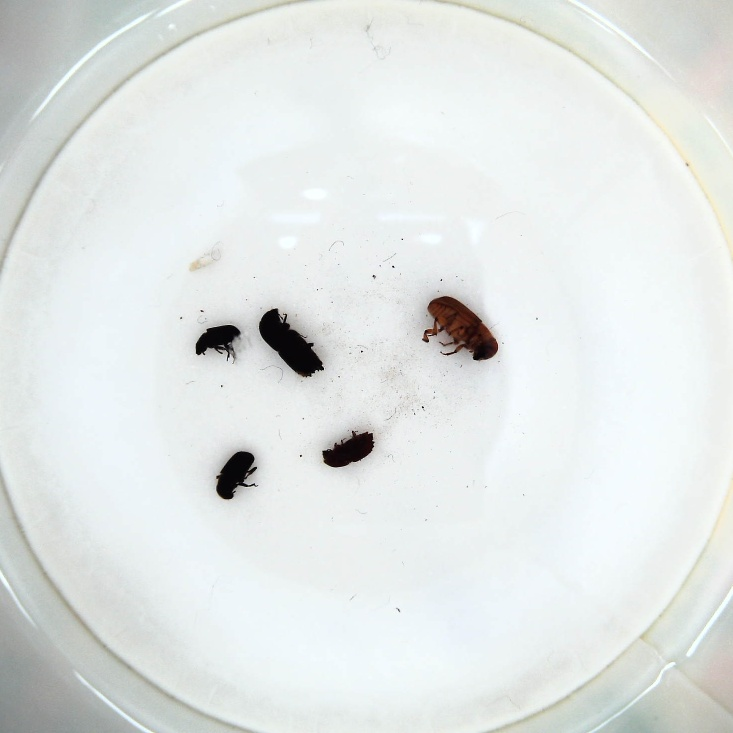armandi: (214, 451, 260, 501)
boerner: (258, 306, 323, 377)
coleoptera: (193, 322, 242, 366)
leconte: (418, 295, 502, 365)
linnaeus: (320, 429, 376, 471)
